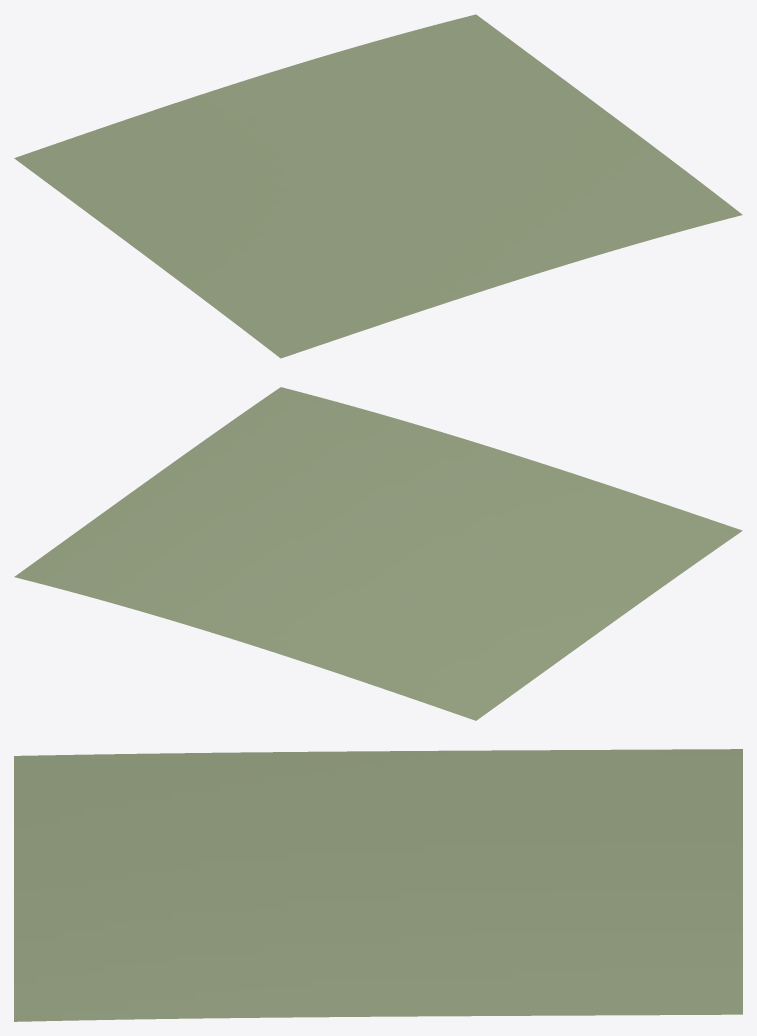
Rendered from valley-10-5.glb.
The picture shows the model from 3 angles, top to bottom: view 1: azimuth 30°, elevation 25°; view 2: azimuth 150°, elevation 25°; view 3: azimuth 270°, elevation 25°; orthographic projection. The views are drawn at different scales.
Parts seen in each view (by area): view 1: valley-10-5; view 2: valley-10-5; view 3: valley-10-5.
Boxes of the visible parts, <box> form: valley-10-5: <box>14,14,742,358</box>; valley-10-5: <box>14,387,742,720</box>; valley-10-5: <box>14,749,742,1021</box>.
Bounding box in the file's own units: 256 × 19.12 × 256.
